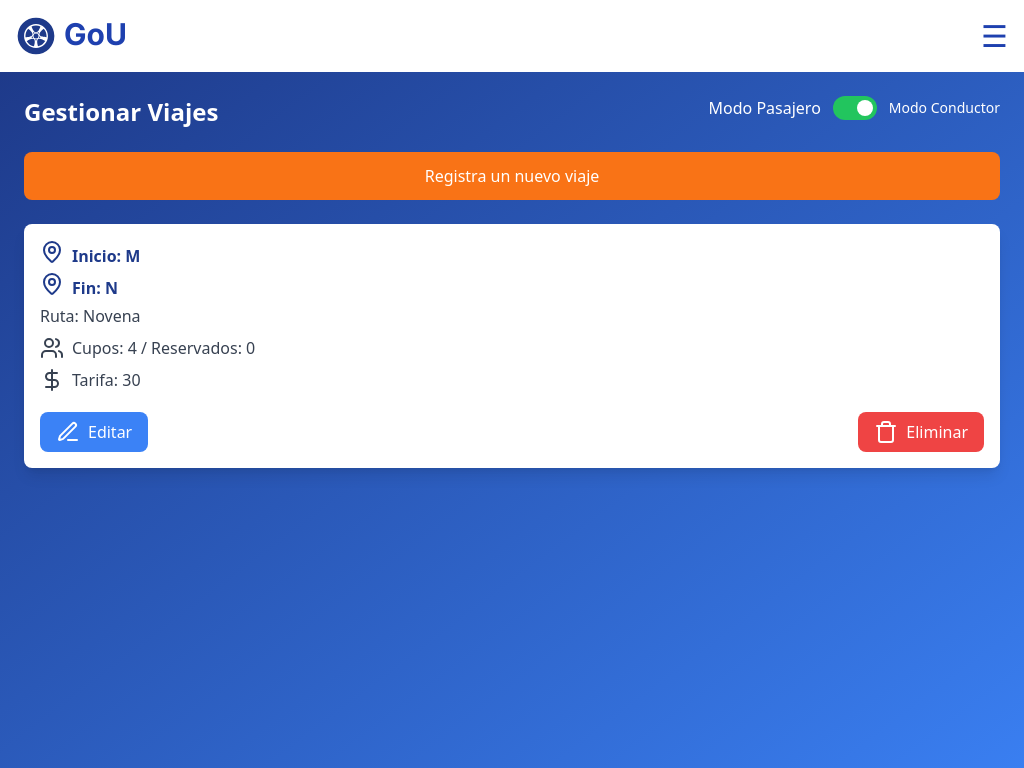
Test: 🗺️ ManageTrips E2E › handleEditSubmit guarda y actualiza la lista
Click the button "Editar": (94, 432) [40,412,148,452]
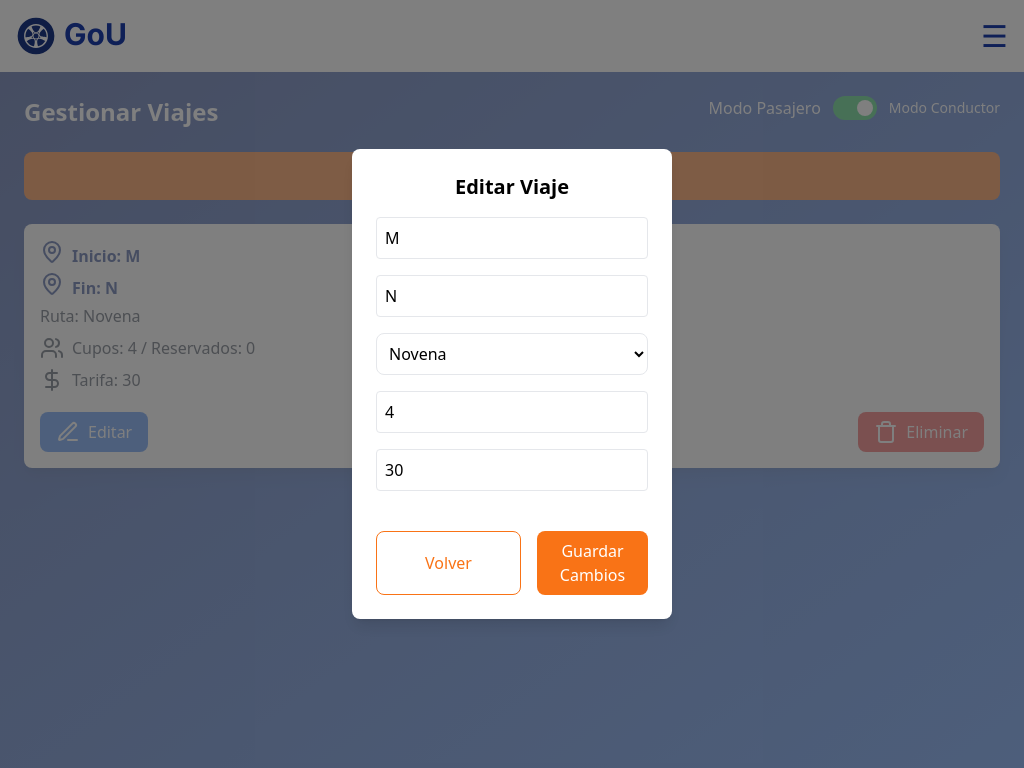
Replace the text in the 1st field with placeholder "Punto de inicio" with "Z": (512, 238) [376,217,648,259]
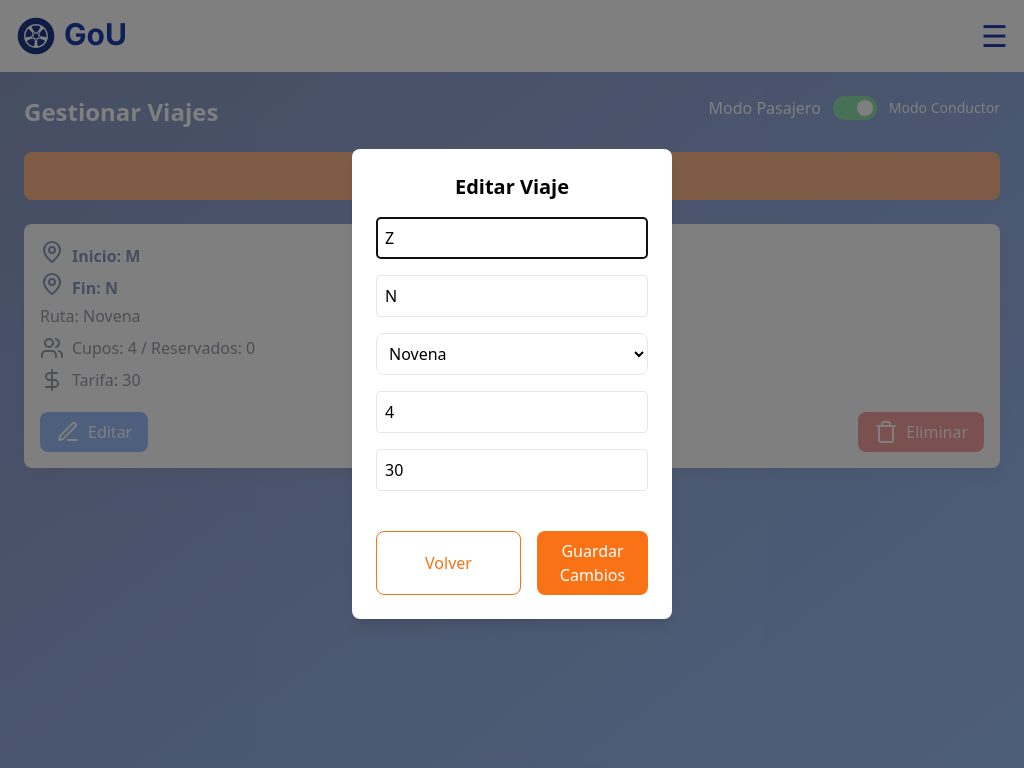
Click the button "Guardar Cambios": (593, 563) [537,531,648,595]
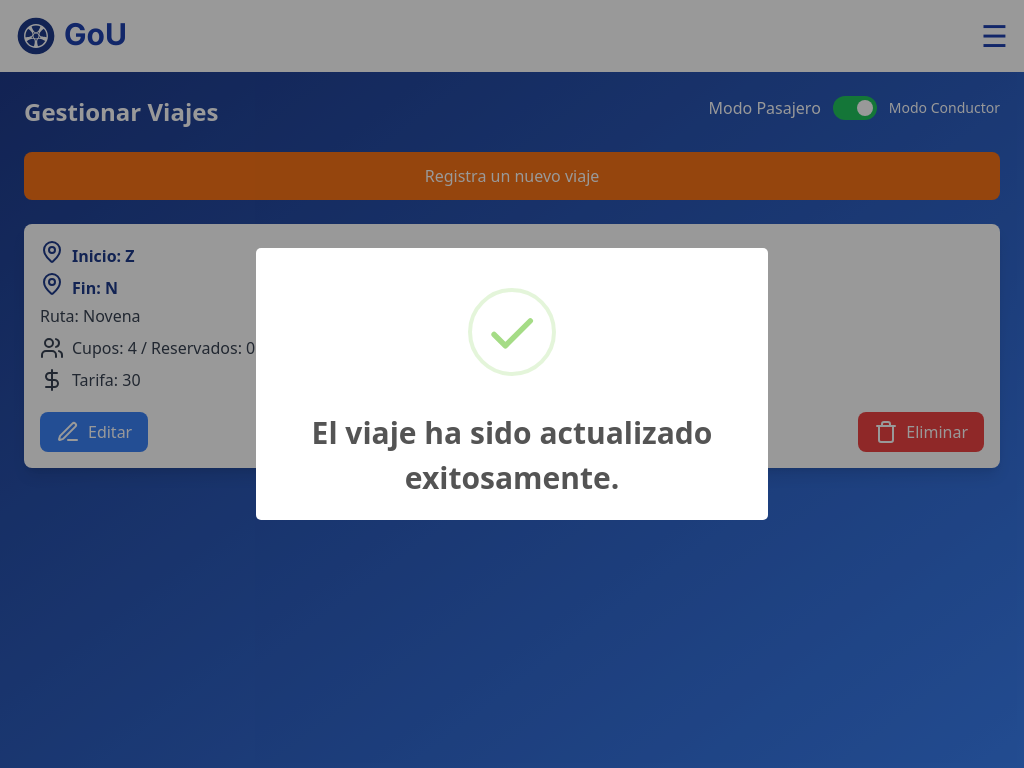
Now the dialog with class "swal2-icon-success" is shown, box [256,248,768,520]
